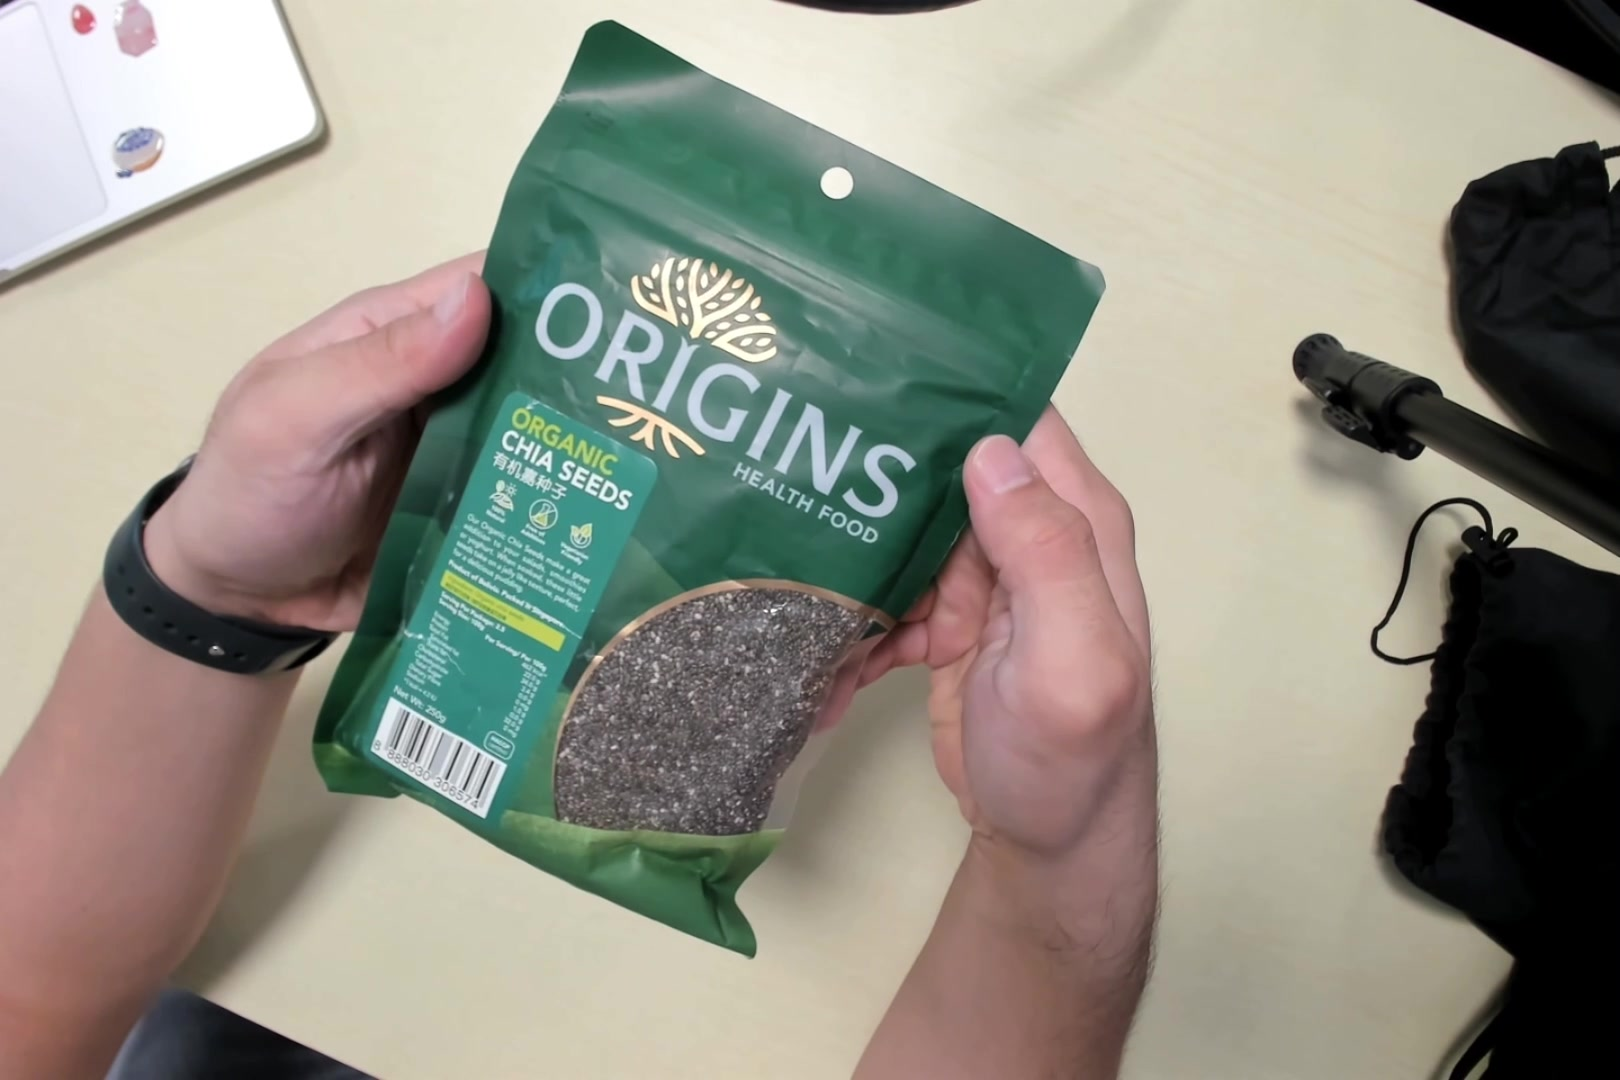OtherDriedFood_200-299g_NonHalal_NonHealthy: (352, 49, 1085, 976)
